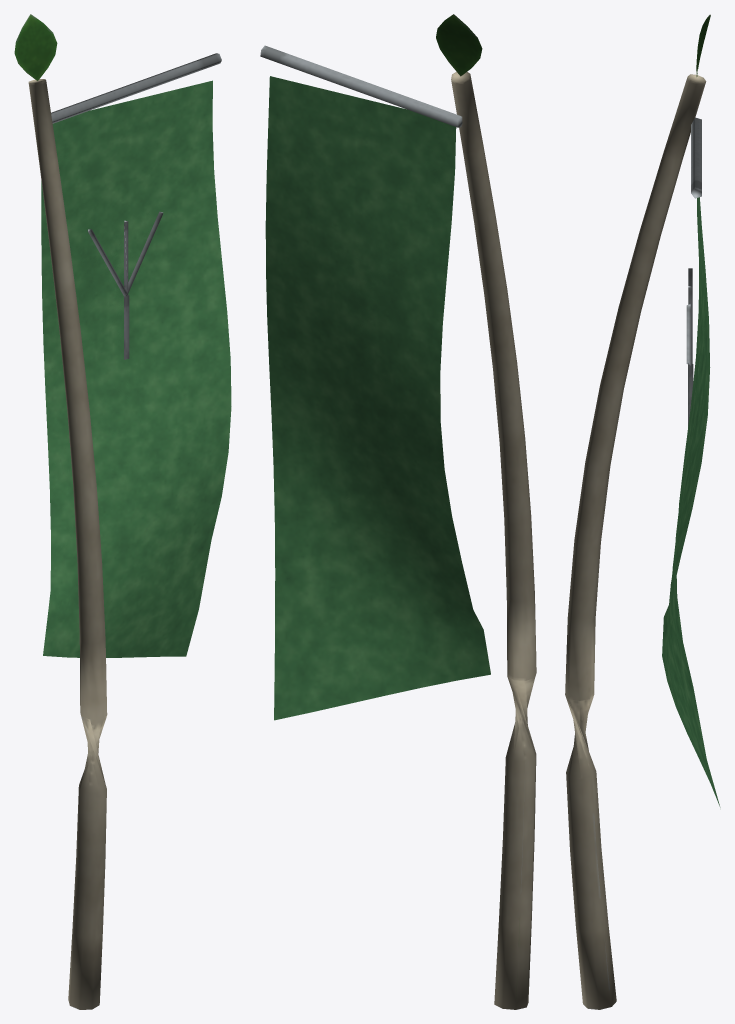
Rendered from elf_banner.obj.
3 views of the same model, side by side, from view 1: azimuth 30°, elevation 25°; view 2: azimuth 150°, elevation 25°; view 3: azimuth 270°, elevation 25° (orthographic). The views are drawn at different scales.
Parts seen in each view (by area): view 1: part1, part0, part2, part3; view 2: part1, part0, part2, part3; view 3: part0, part1, part2.
Part boxes in pixels (x1=…): part1: x1=41, y1=80, x2=231, y2=657; part0: x1=28, y1=79, x2=107, y2=1009; part2: x1=51, y1=53, x2=221, y2=359; part3: x1=14, y1=14, x2=57, y2=80; part1: x1=265, y1=76, x2=490, y2=720; part0: x1=451, y1=72, x2=536, y2=1009; part2: x1=260, y1=45, x2=462, y2=127; part3: x1=436, y1=14, x2=482, y2=76; part0: x1=565, y1=74, x2=706, y2=1009; part1: x1=662, y1=197, x2=720, y2=807; part2: x1=686, y1=117, x2=701, y2=426.
Bounding box in the file's own units: 1.02 × 4.5 × 0.6417.
